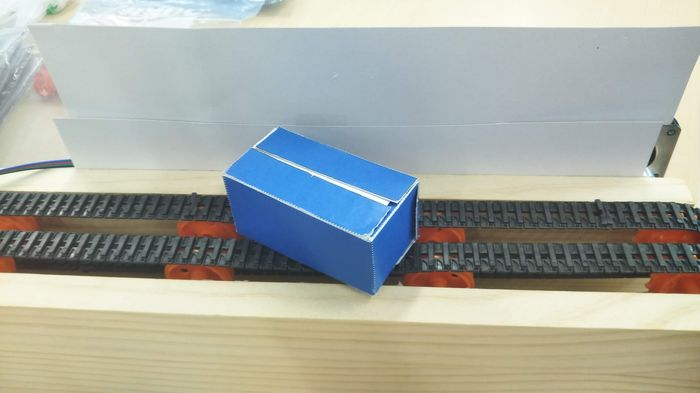box3: (217, 123, 423, 296)
